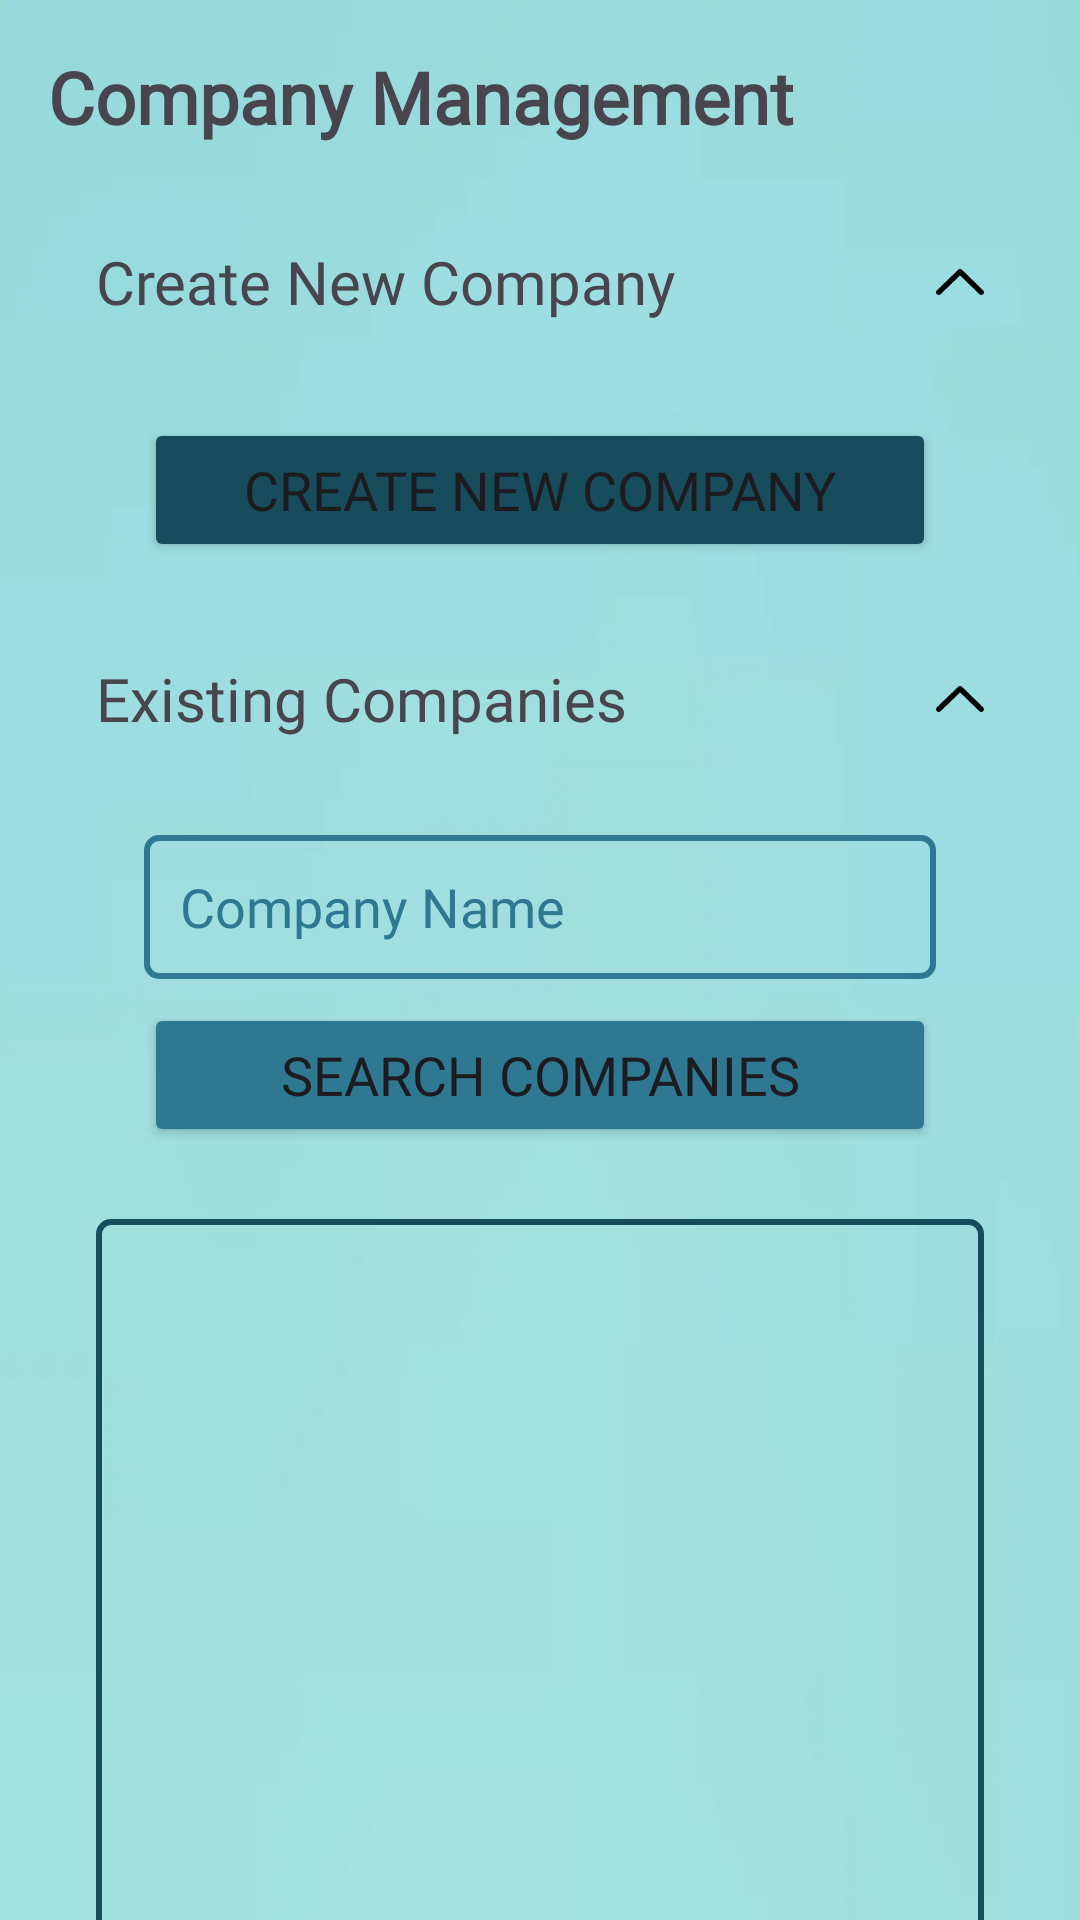

Icons on this 1080x1920 Android screen, each with its box as (x1, y1, x2, y2):
arrow up: (936, 269, 984, 295), (936, 686, 984, 712)
